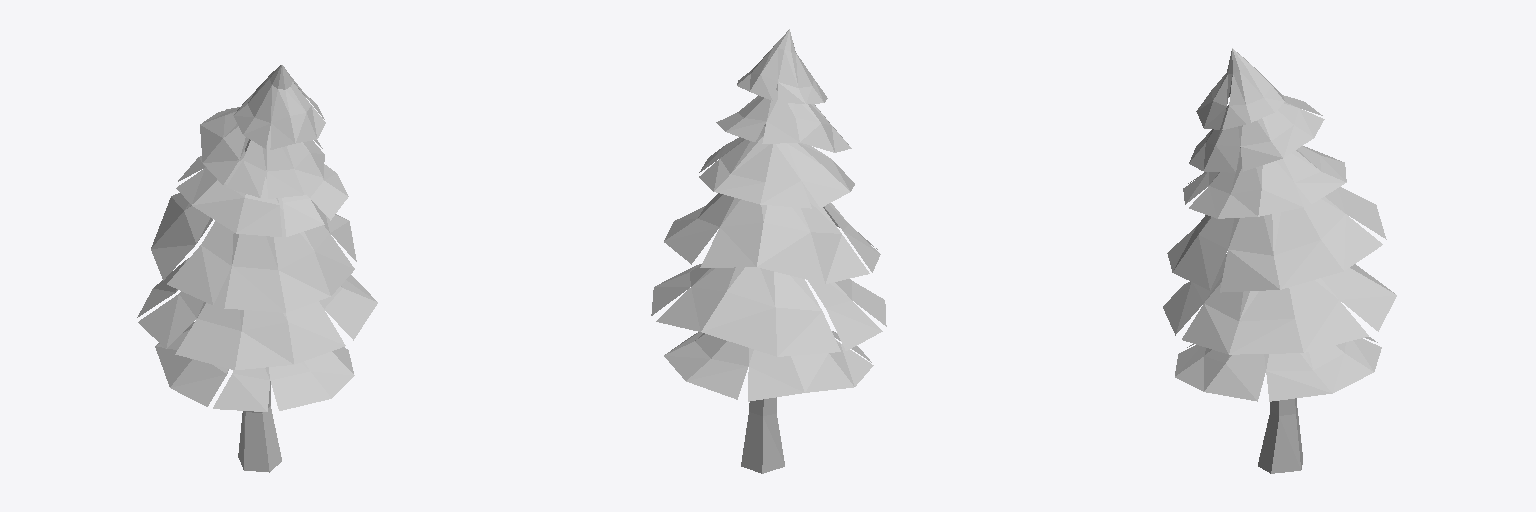
The model's file is tree.obj.
3 views of the same model, side by side, from view 1: azimuth 30°, elevation 25°; view 2: azimuth 150°, elevation 25°; view 3: azimuth 270°, elevation 25° (orthographic).
Visible parts, largest first — view 1: PineTree_body; view 2: PineTree_body; view 3: PineTree_body.
Boxes of the visible parts, <box> form: PineTree_body: <box>137,65,377,472</box>; PineTree_body: <box>651,29,886,473</box>; PineTree_body: <box>1163,48,1396,473</box>.
Size of the model in its own units: 1.68 by 3.28 by 1.67.